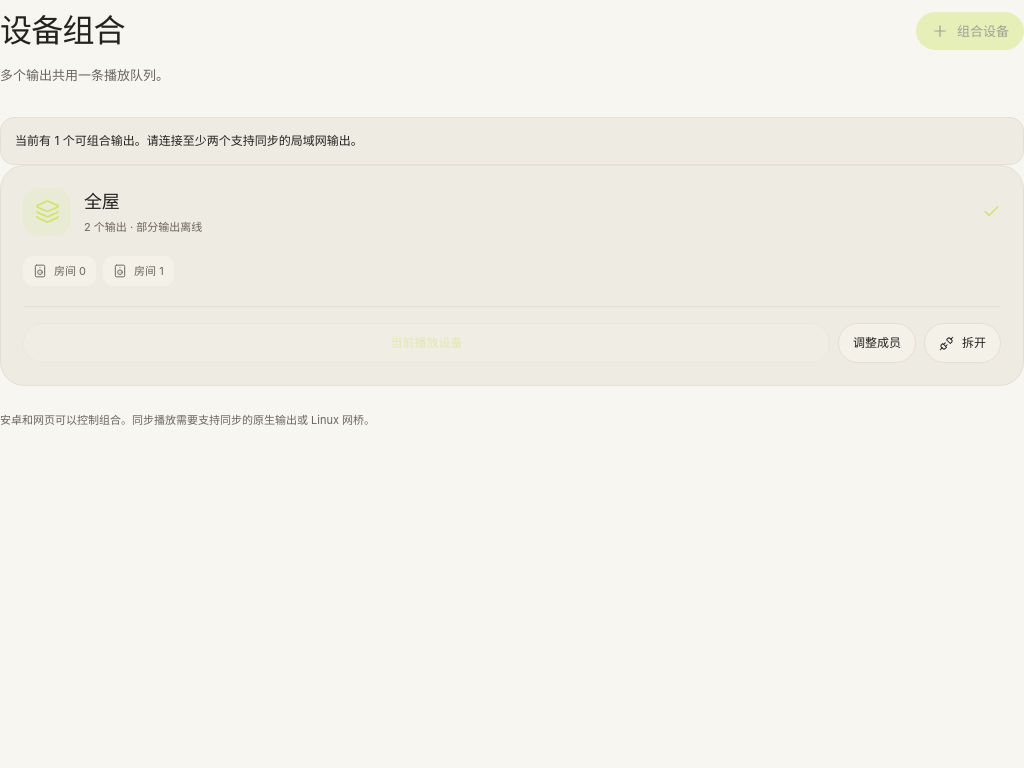
Test: 编辑时可以看见并移除已离线成员，再选在线输出替换
Later steps or results of the test are not shown.
Click the button "调整成员" at (877, 344), box [838, 324, 916, 364]
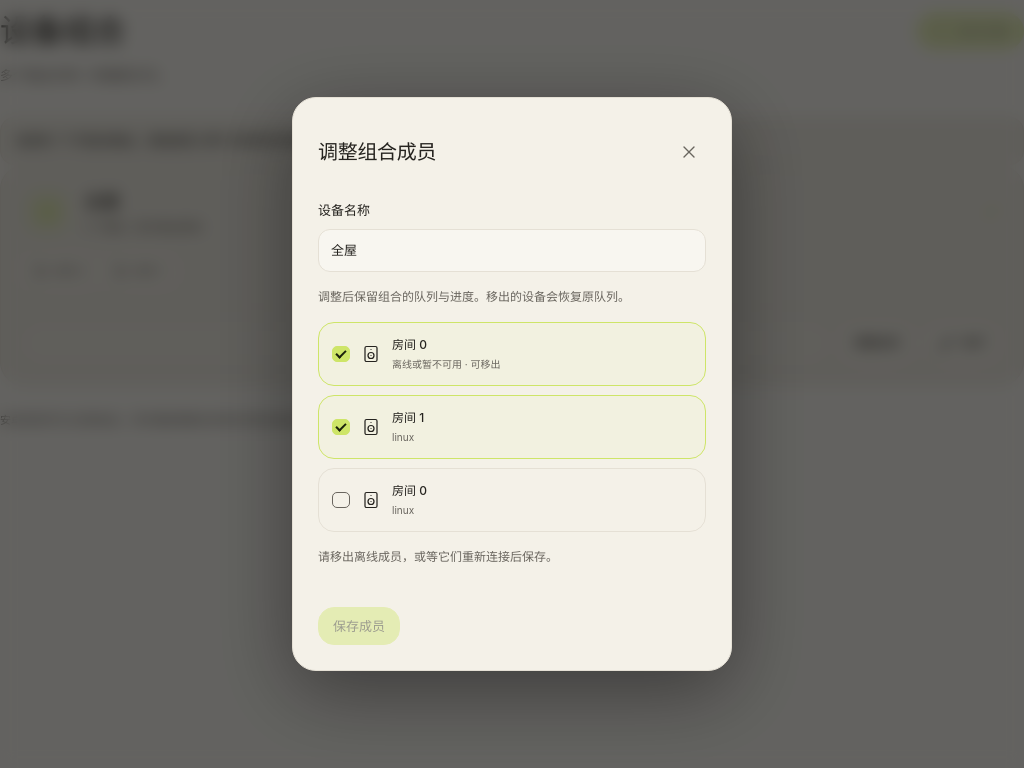
Result: the number of checkboxes is 3
Result: the button "保存成员" is disabled at [318, 606, 400, 645]
Click the checkbox labelled "房间 0 离线或暂不可用 · 可移出" at (341, 354), box [332, 346, 350, 362]
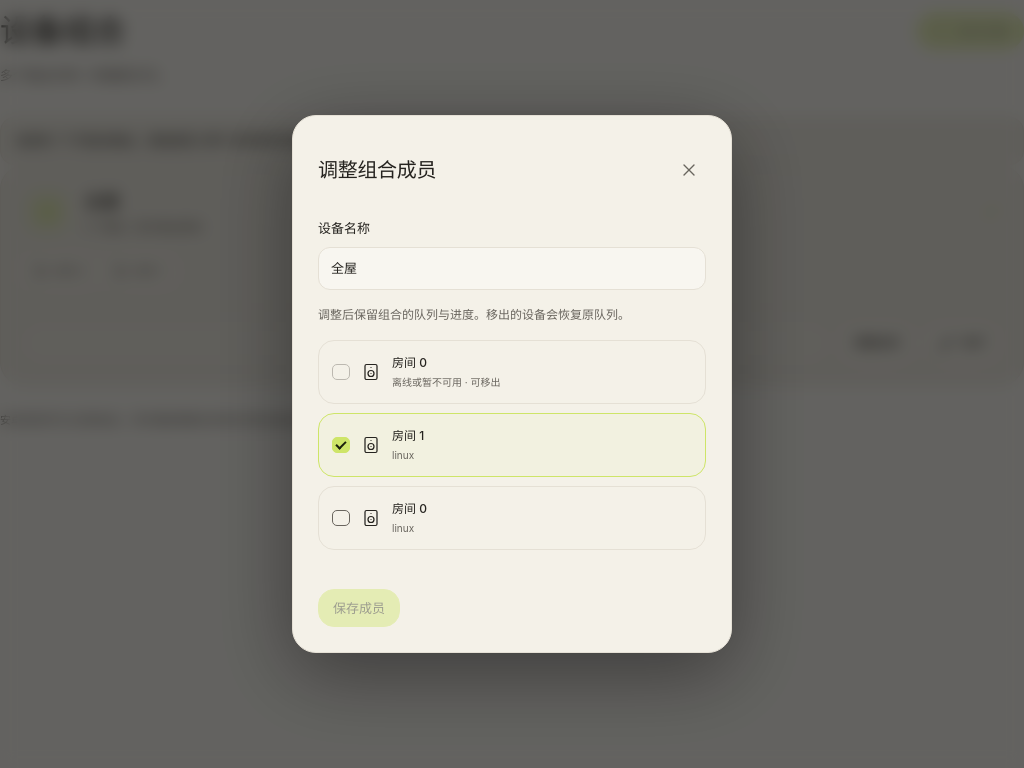
Click the checkbox labelled "房间 0 linux" at (341, 518), box [332, 510, 350, 526]
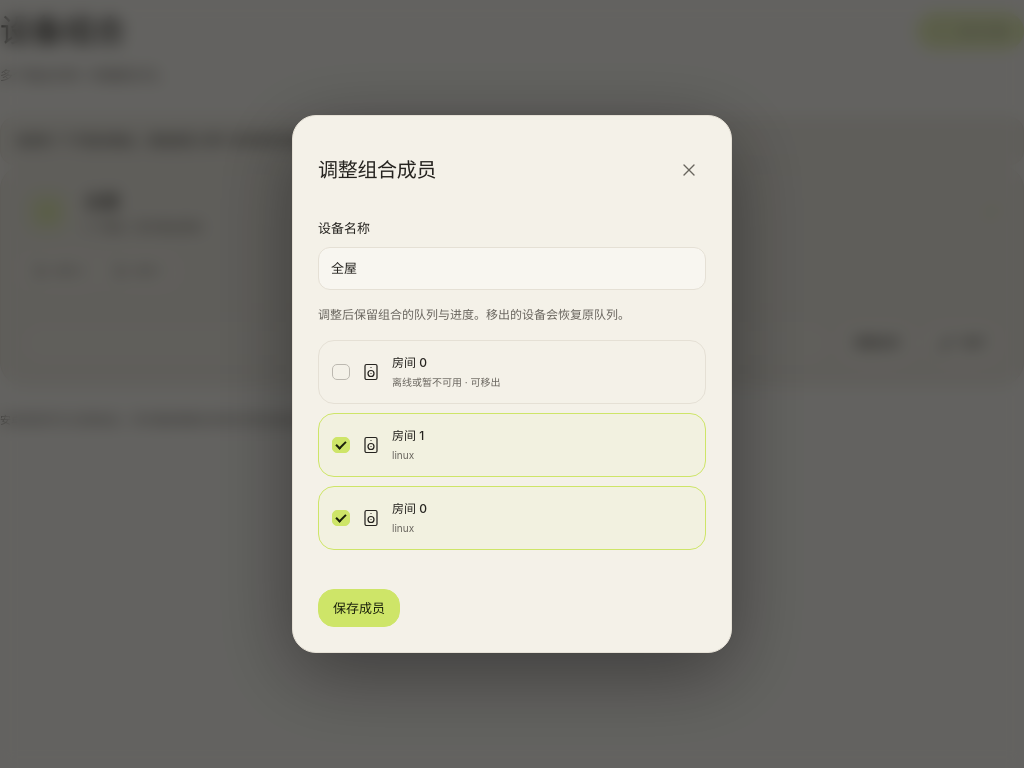
Result: the button "保存成员" is enabled at [318, 589, 400, 627]
